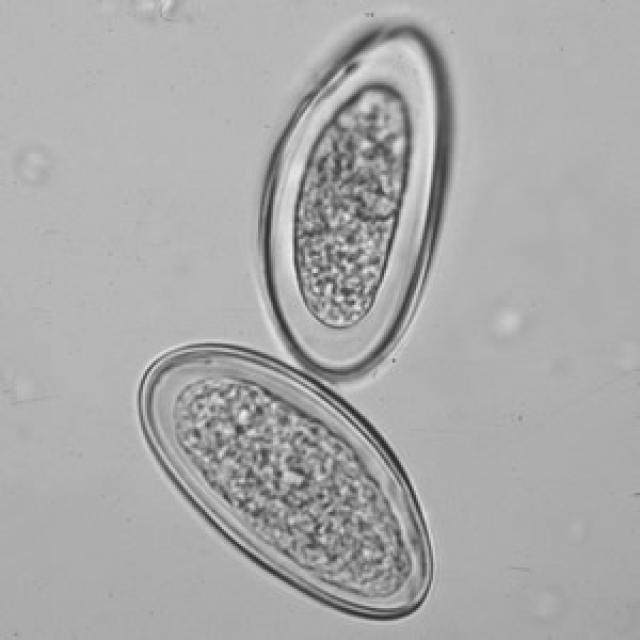Enterobius Vermicularis: (128, 341, 433, 619), (250, 12, 460, 389)
